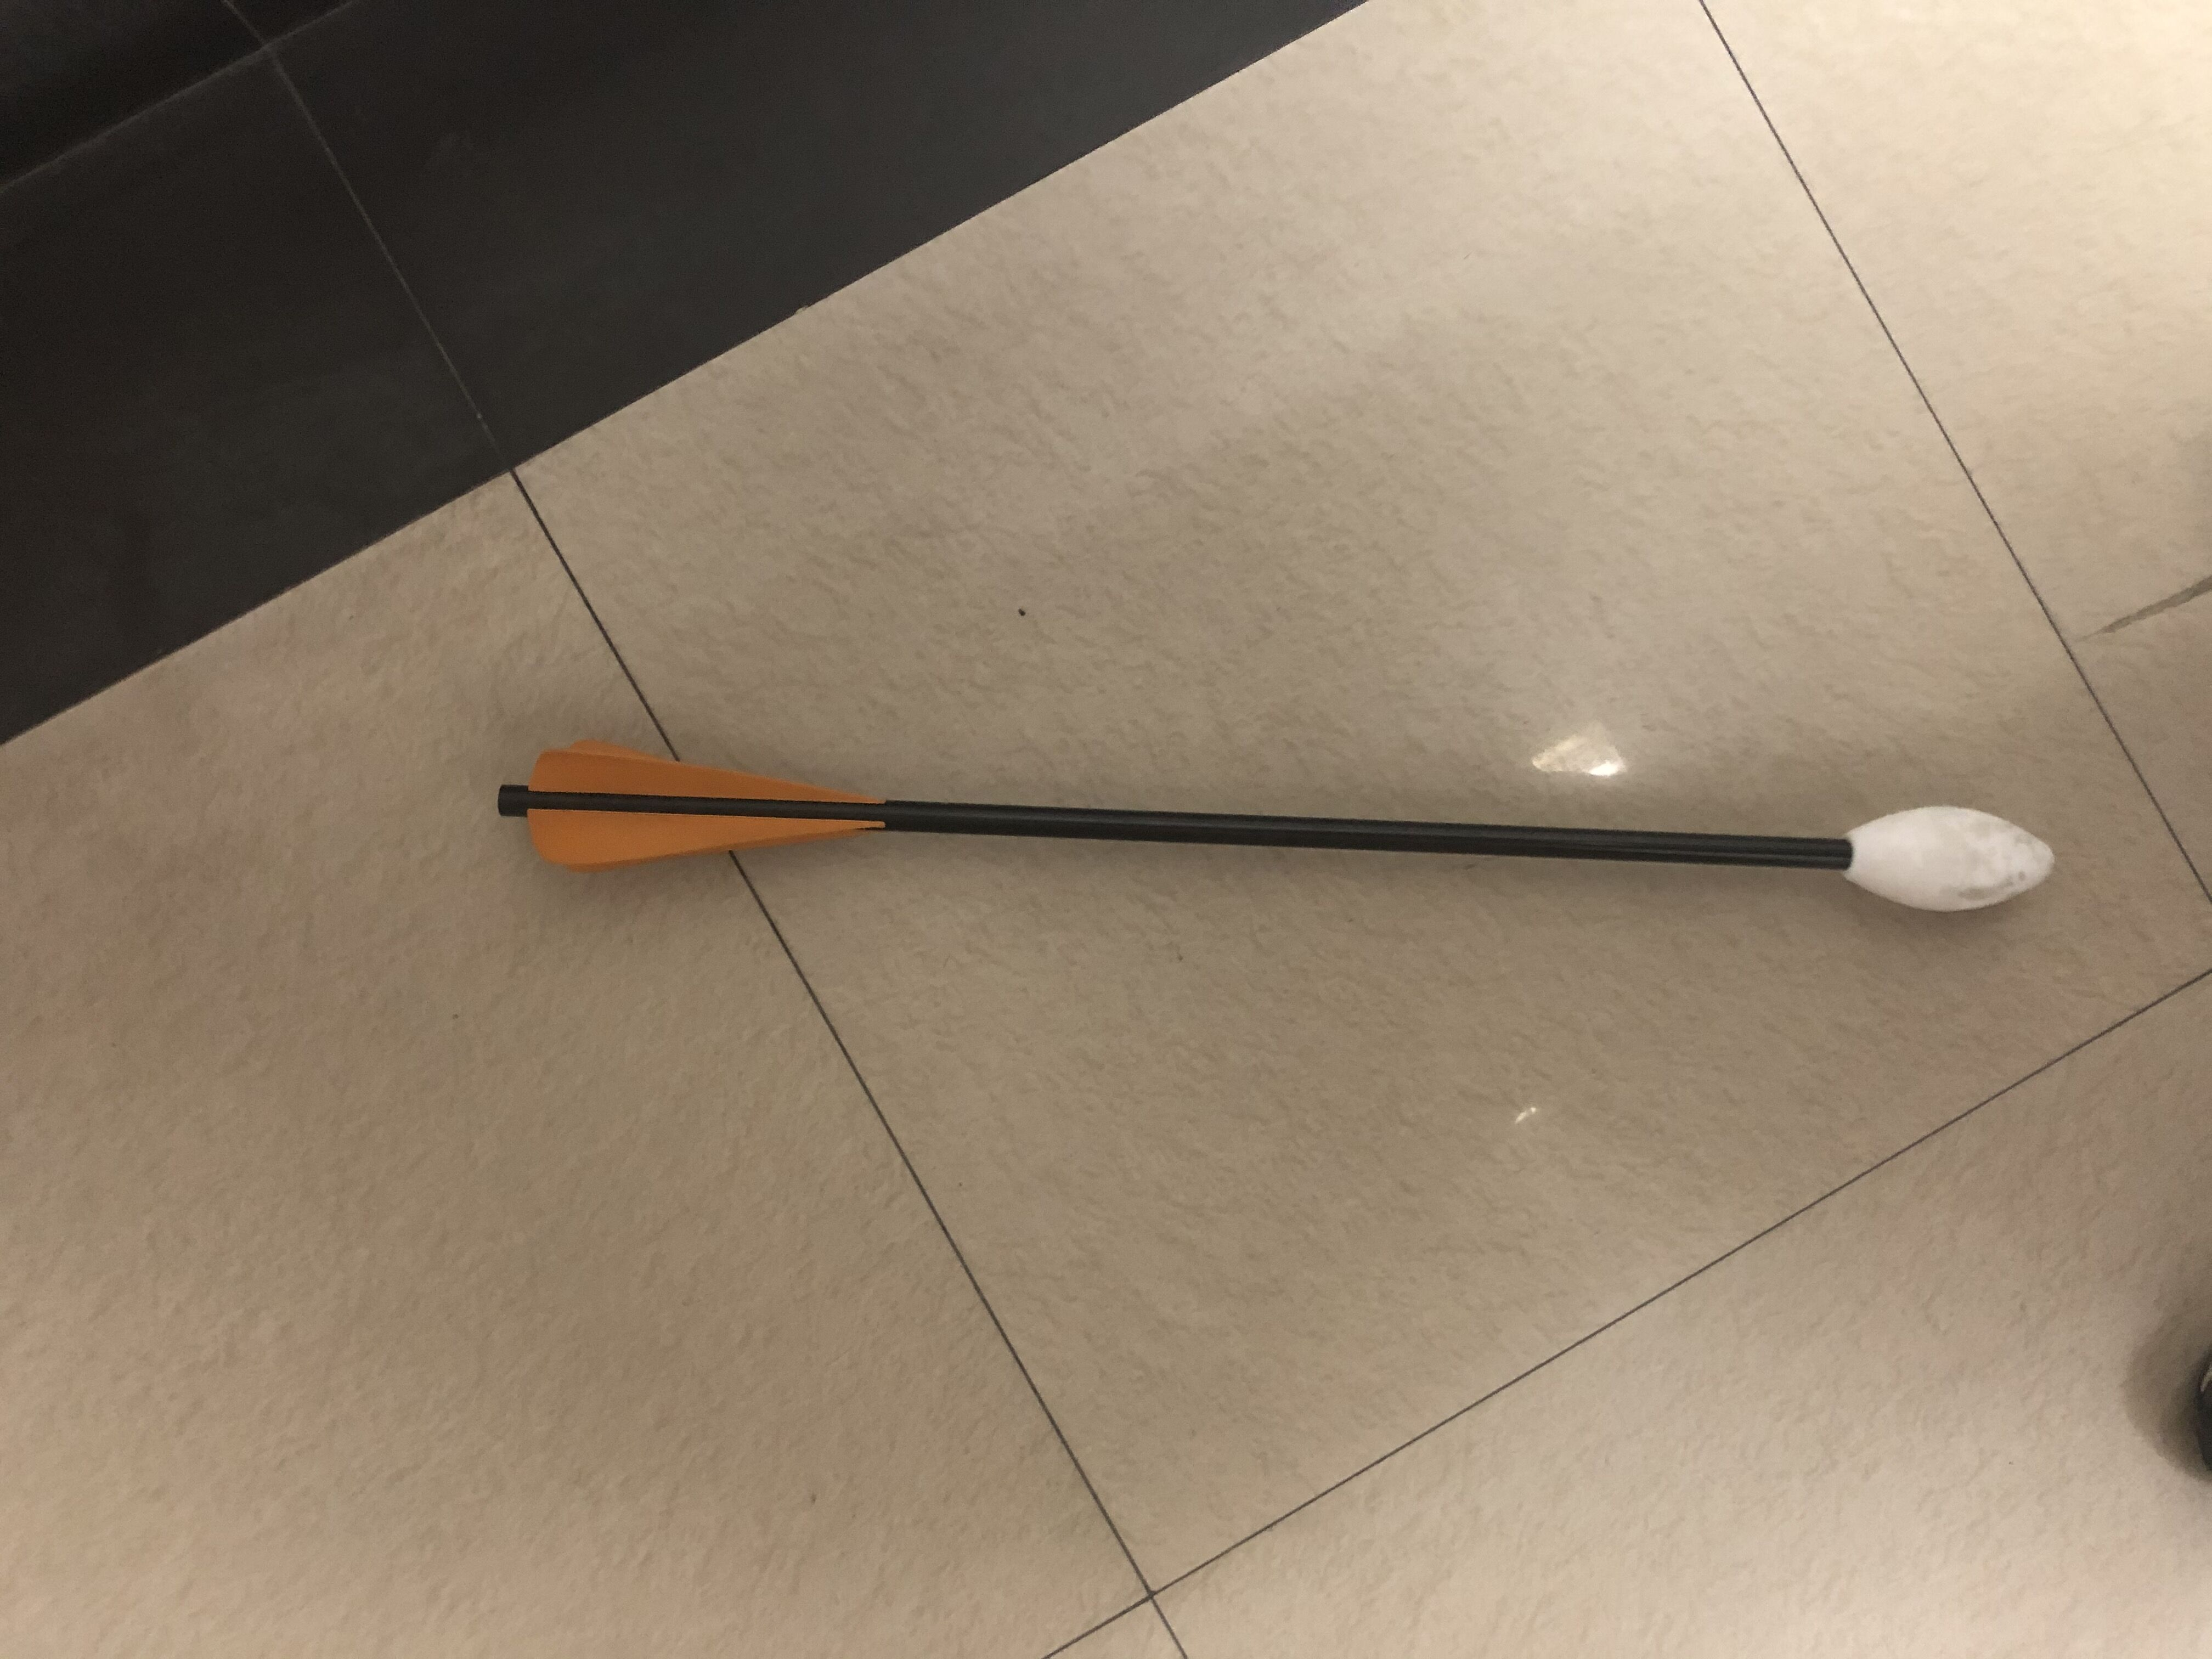arrow: (491, 734, 2062, 932)
arrowFront: (1841, 798, 2055, 915)
